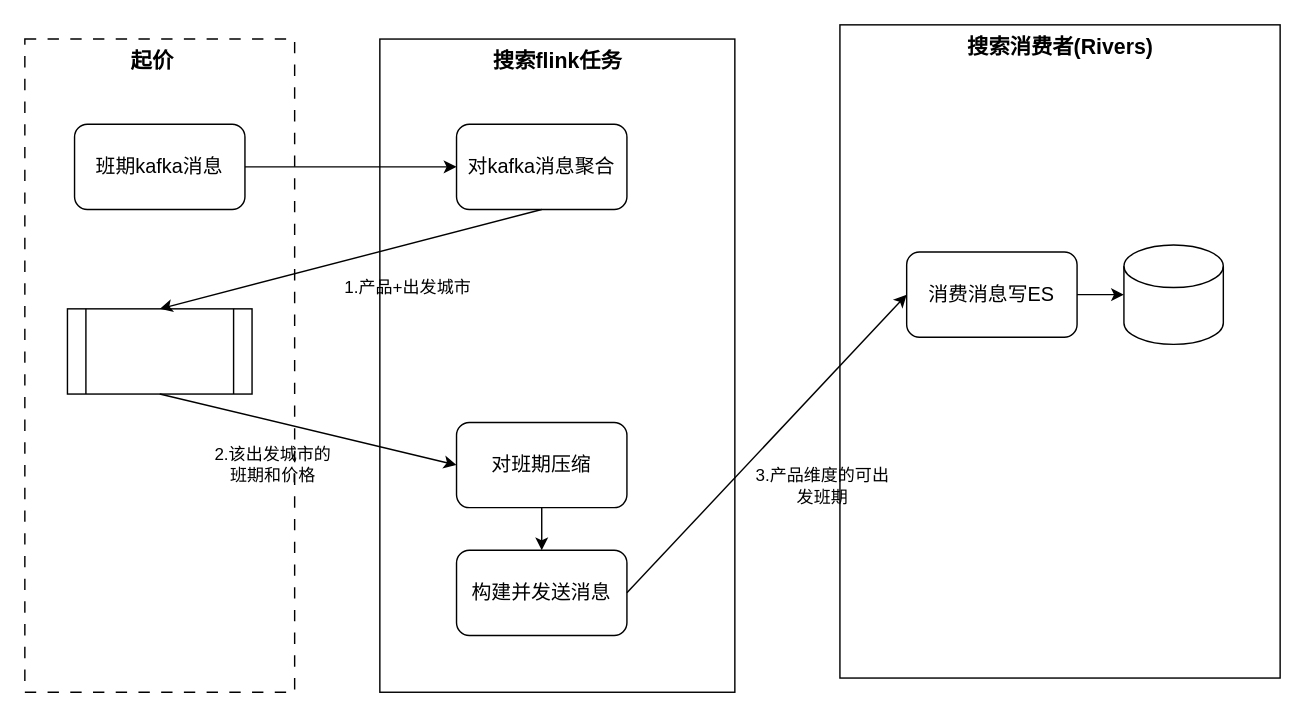
Some shapes in this 1305 by 717 pixel diagram are drawn without their labels. Here are the shapes that lost their labels. From the top down, the centre of each, then its label:
At (1173,294): "ES".
At (159,350): "查询班期接口 (三要素)".
